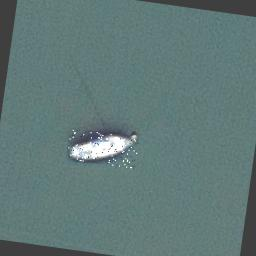boat: (65, 127, 139, 168)
